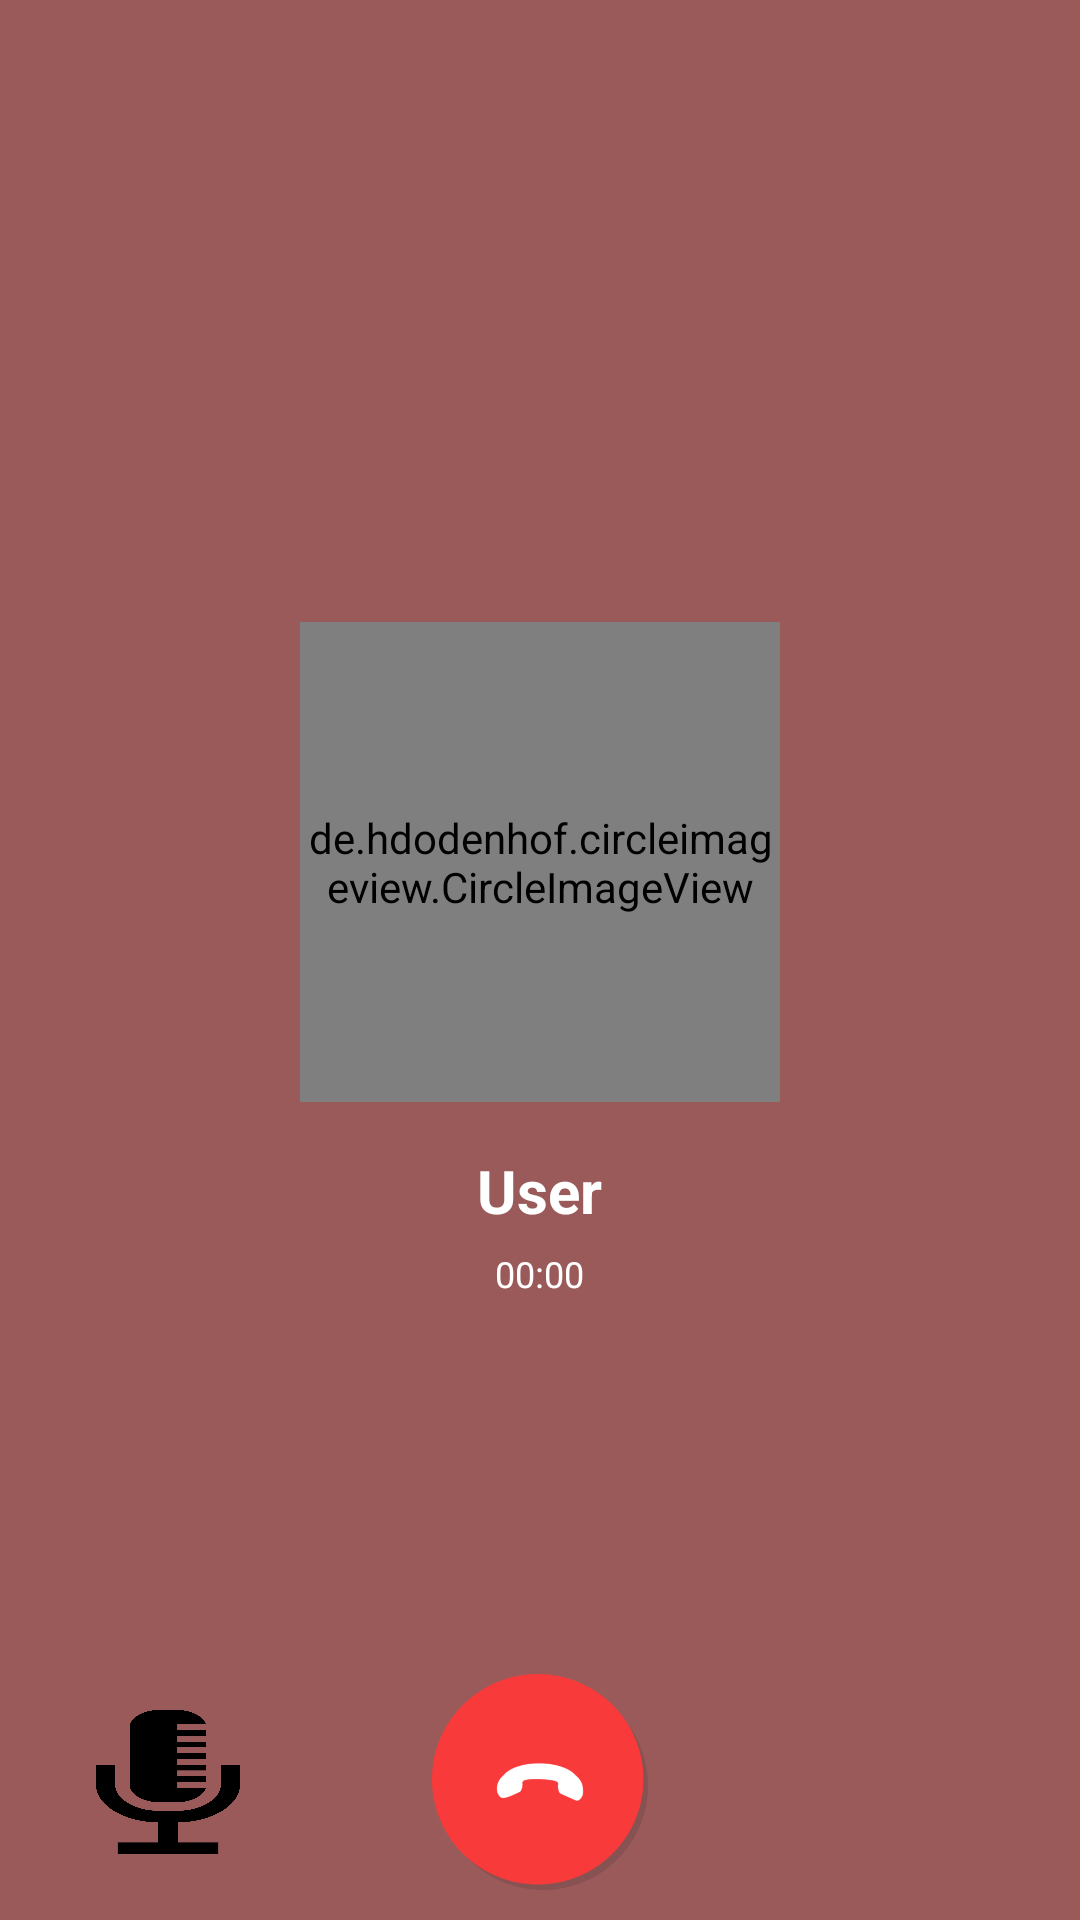

Where to tap for icons on this 1080×1920 app screen, as (x=x, y=y):
end call: (x=538, y=1779)
mic: (x=168, y=1782)
